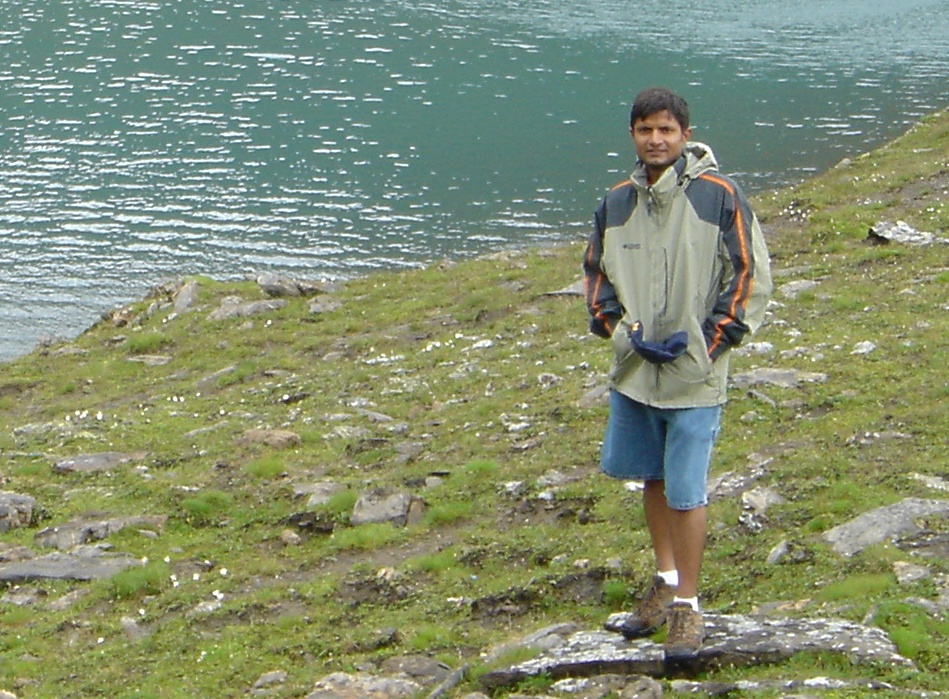person: (581, 83, 755, 662)
